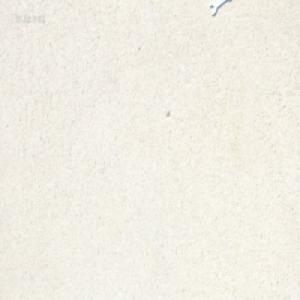Wrench: (208, 0, 228, 15)
